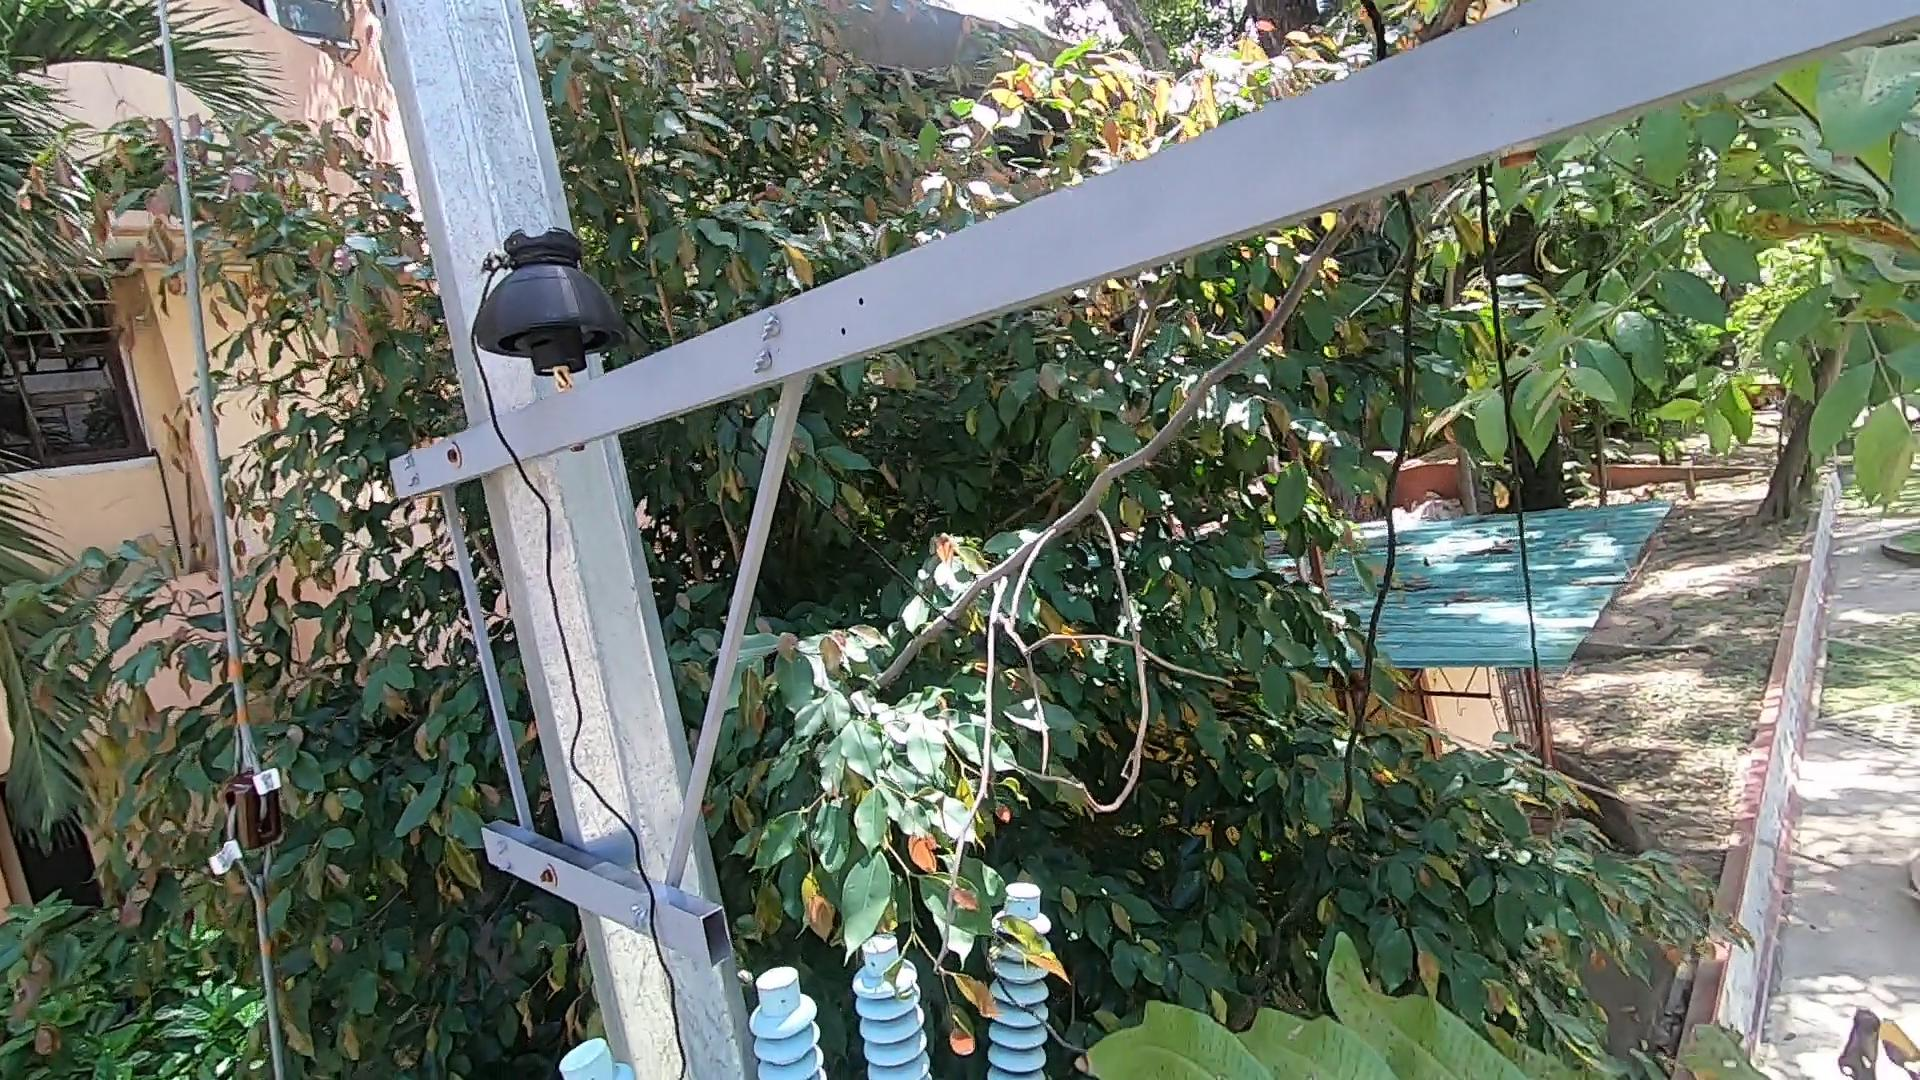tree branch: (869, 198, 1381, 907), (1408, 1, 1482, 44)
